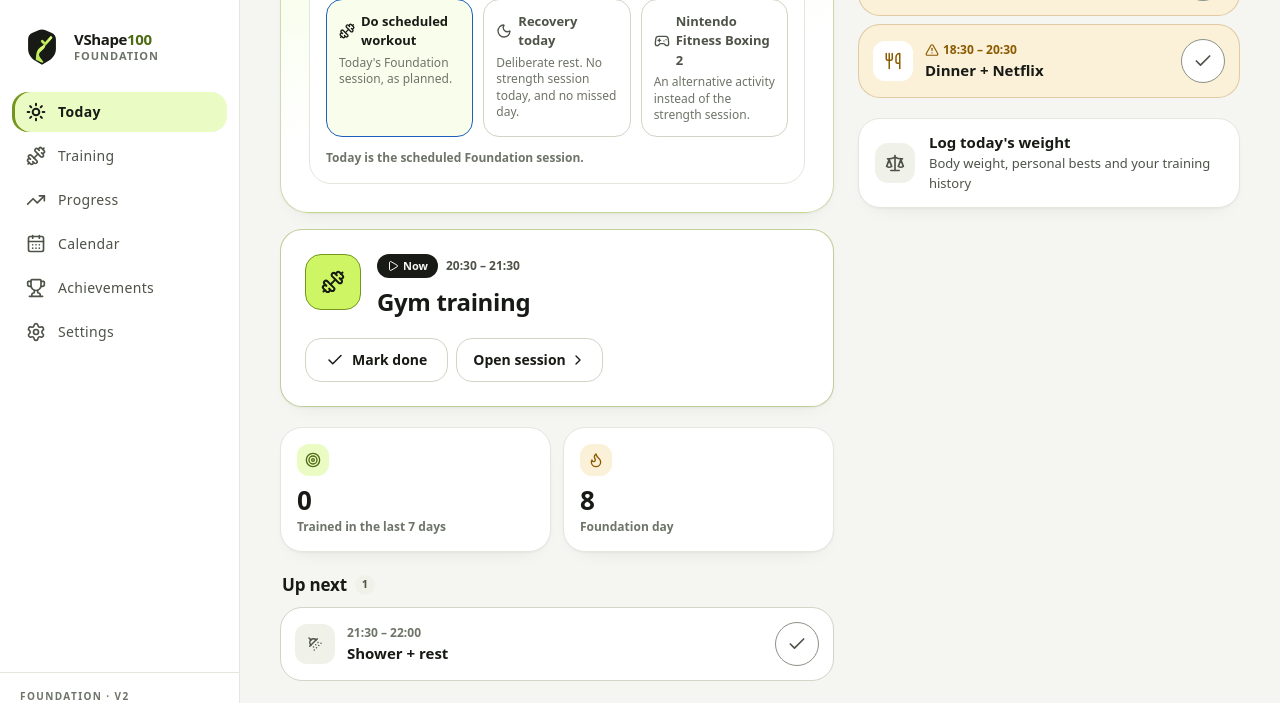
Test case: Today — manual completion › reports completion state on the control itself
The width and height of the screenshot is (1280, 703).
(page scrolled)
Click the button with aria-label "Complete Gym training" at (377, 360), box x1=305 y1=338 x2=448 y2=382
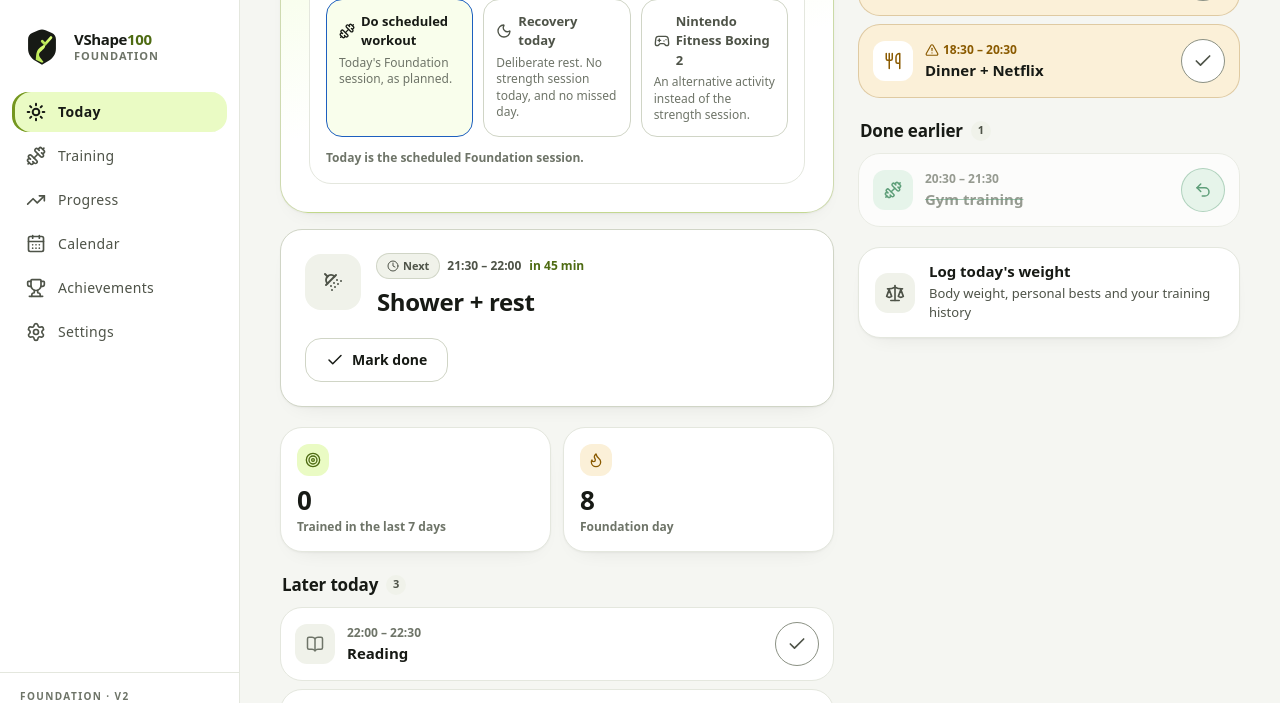
Expected: the element "Done earlier" is shown, x1=858 y1=118 x2=1240 y2=228
